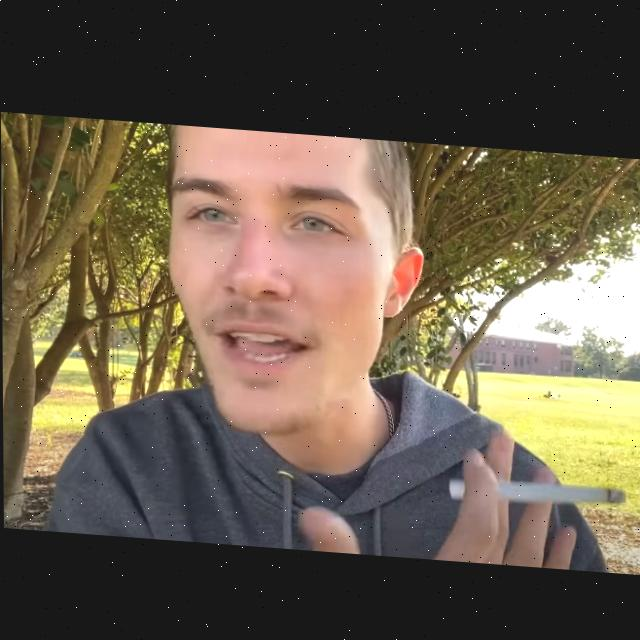cigarette: (448, 468, 626, 504)
